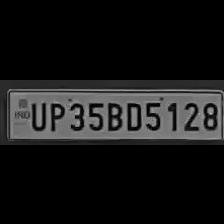1: (162, 98, 180, 130)
2: (180, 97, 200, 131)
3: (66, 97, 86, 130)
5: (142, 97, 162, 130), (86, 97, 104, 130)
8: (200, 98, 218, 130)
B: (104, 98, 122, 130)
D: (123, 97, 143, 130)
P: (46, 98, 64, 132)
U: (27, 98, 46, 130)
